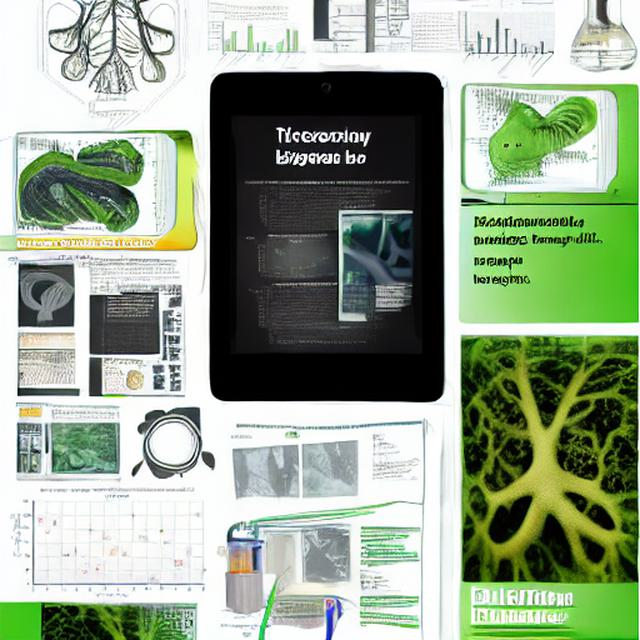Graph: (14, 484, 208, 599), (455, 1, 558, 80), (210, 13, 301, 67), (255, 232, 339, 282), (84, 92, 144, 127), (99, 320, 159, 355)
